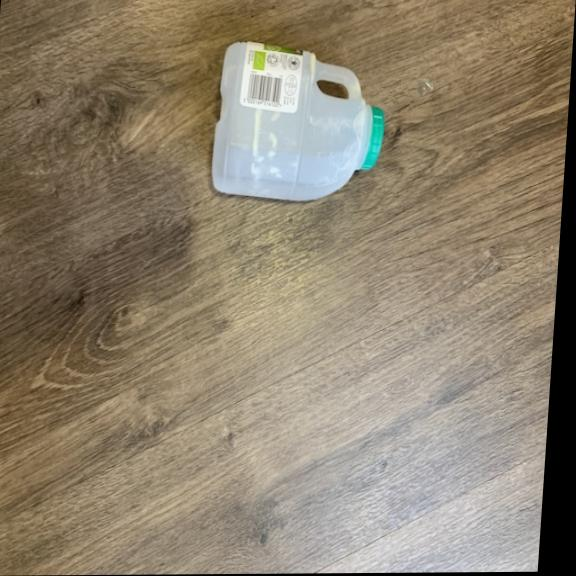Plastik: (205, 37, 395, 207)
